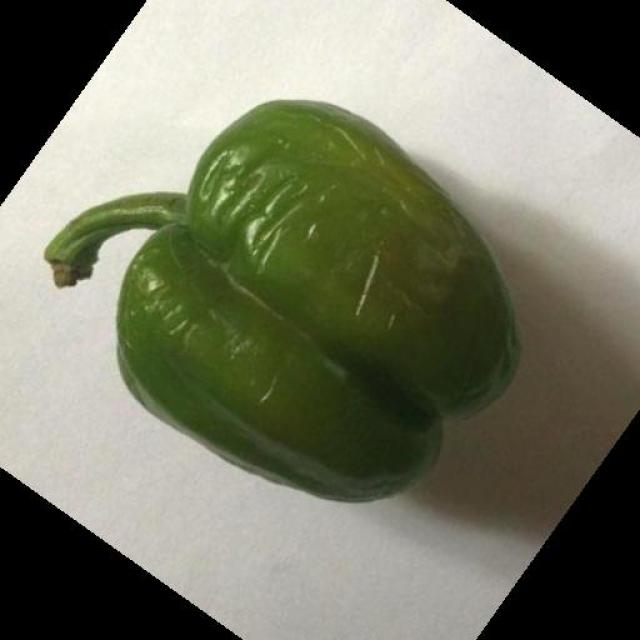Stale_Capsicum: (105, 120, 548, 505)
